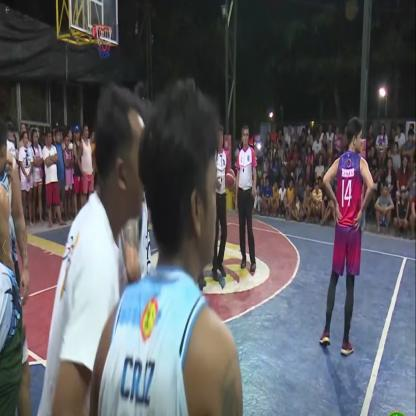rim: (93, 19, 116, 65)
